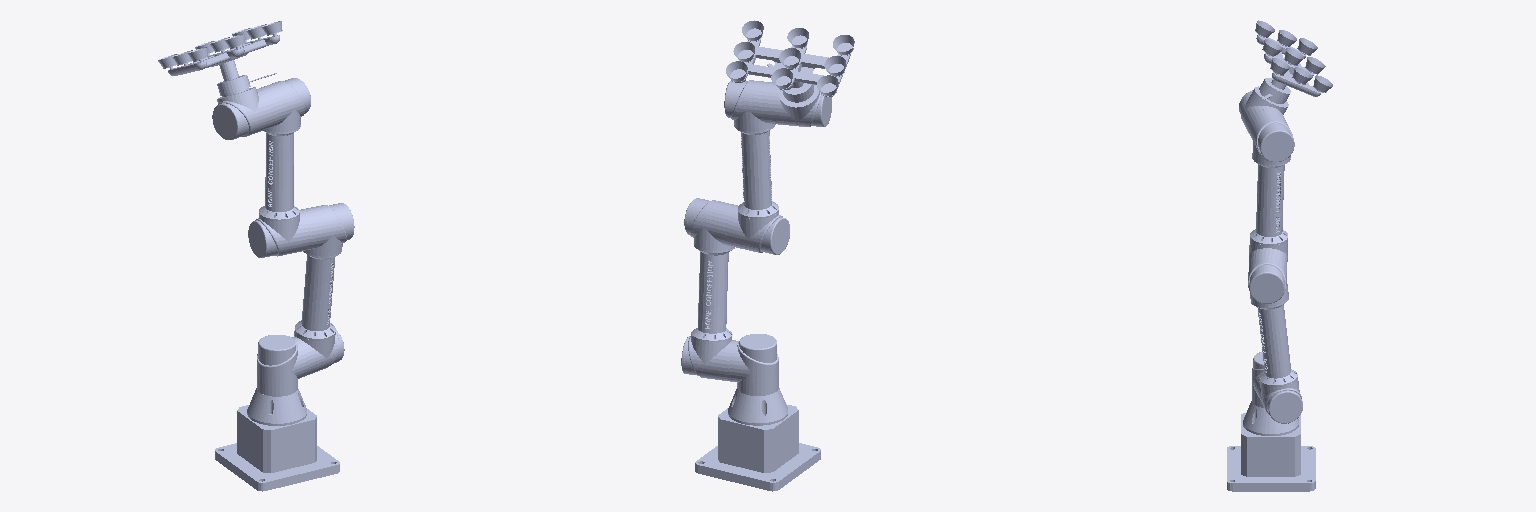
The robot description file, URDF, robot "bras_robot_kone":
<?xml version="1.0" encoding="utf-8"?>
<!-- This URDF was automatically created by SolidWorks to URDF Exporter! Originally created by [author] ([email redacted]) 
     Commit Version: 1.6.0-4-g7f85cfe  Build Version: 1.6.7995.38578
     For more information, please see http://wiki.ros.org/sw_urdf_exporter -->
<robot
  name="bras_robot_kone">
  <link
    name="base_link">
    <inertial>
      <origin
        xyz="-0.0439390916743305 -0.00824743509828847 0.0750001368355614"
        rpy="0 0 0" />
      <mass
        value="1.15616260183108" />
      <inertia
        ixx="0.00201252660466385"
        ixy="-5.84389314167828E-11"
        ixz="1.15648471369529E-09"
        iyy="0.00254071599730866"
        iyz="-9.2583283272325E-10"
        izz="0.00201252366056206" />
    </inertial>
    <visual>
      <origin
        xyz="0 0 0"
        rpy="0 0 0" />
      <geometry>
        <mesh
          filename="package://bras_robot_kone/meshes/base_link.STL" />
      </geometry>
      <material
        name="">
        <color
          rgba="0.792156862745098 0.819607843137255 0.933333333333333 1" />
      </material>
    </visual>
    <collision>
      <origin
        xyz="0 0 0"
        rpy="0 0 0" />
      <geometry>
        <mesh
          filename="package://bras_robot_kone/meshes/base_link.STL" />
      </geometry>
    </collision>
  </link>
  <link
    name="link_1">
    <inertial>
      <origin
        xyz="-3.1782E-08 0.039149 0.0038439"
        rpy="0 0 0" />
      <mass
        value="0.28935" />
      <inertia
        ixx="0.00023422"
        ixy="-5.2518E-11"
        ixz="2.1705E-10"
        iyy="0.00017347"
        iyz="-3.0518E-06"
        izz="0.00021948" />
    </inertial>
    <visual>
      <origin
        xyz="0 0 0"
        rpy="0 0 0" />
      <geometry>
        <mesh
          filename="package://bras_robot_kone/meshes/link_1.STL" />
      </geometry>
      <material
        name="">
        <color
          rgba="0.79216 0.81961 0.93333 1" />
      </material>
    </visual>
    <collision>
      <origin
        xyz="0 0 0"
        rpy="0 0 0" />
      <geometry>
        <mesh
          filename="package://bras_robot_kone/meshes/link_1.STL" />
      </geometry>
    </collision>
  </link>
  <joint
    name="joint0"
    type="revolute">
    <origin
      xyz="-0.043939 -0.075 0.075658"
      rpy="1.5708 0 1.7893" />
    <parent
      link="base_link" />
    <child
      link="link_1" />
    <axis
      xyz="0 1 0" />
    <limit
      lower="-1.57"
      upper="1.57"
      effort="10"
      velocity="100" />
  </joint>
  <link
    name="link_2">
    <inertial>
      <origin
        xyz="2.35405509894093E-05 0.0356351701817949 0.0538201047690854"
        rpy="0 0 0" />
      <mass
        value="0.531525546414824" />
      <inertia
        ixx="0.000823332325834598"
        ixy="4.77518531309744E-07"
        ixz="4.3876184733731E-08"
        iyy="0.000759809477216489"
        iyz="-3.3136942033293E-06"
        izz="0.000292449829863382" />
    </inertial>
    <visual>
      <origin
        xyz="0 0 0"
        rpy="0 0 0" />
      <geometry>
        <mesh
          filename="package://bras_robot_kone/meshes/link_2.STL" />
      </geometry>
      <material
        name="">
        <color
          rgba="0.792156862745098 0.819607843137255 0.933333333333333 1" />
      </material>
    </visual>
    <collision>
      <origin
        xyz="0 0 0"
        rpy="0 0 0" />
      <geometry>
        <mesh
          filename="package://bras_robot_kone/meshes/link_2.STL" />
      </geometry>
    </collision>
  </link>
  <joint
    name="joint1"
    type="revolute">
    <origin
      xyz="0 0.04 0.041261"
      rpy="1.5708 0 -3.0383" />
    <parent
      link="link_1" />
    <child
      link="link_2" />
    <axis
      xyz="0 1 0" />
    <limit
      lower="-1.57"
      upper="1.57"
      effort="10"
      velocity="100" />
  </joint>
  <link
    name="link_3">
    <inertial>
      <origin
        xyz="-1.48692601287248E-08 -0.000850596874469905 -0.0421039527998203"
        rpy="0 0 0" />
      <mass
        value="0.289351676799976" />
      <inertia
        ixx="0.000234216248202112"
        ixy="-6.29449176223973E-11"
        ixz="1.73502015400997E-10"
        iyy="0.00017347323078365"
        iyz="-3.05178708302161E-06"
        izz="0.000219481401320033" />
    </inertial>
    <visual>
      <origin
        xyz="0 0 0"
        rpy="0 0 0" />
      <geometry>
        <mesh
          filename="package://bras_robot_kone/meshes/link_3.STL" />
      </geometry>
      <material
        name="">
        <color
          rgba="0.792156862745098 0.819607843137255 0.933333333333333 1" />
      </material>
    </visual>
    <collision>
      <origin
        xyz="0 0 0"
        rpy="0 0 0" />
      <geometry>
        <mesh
          filename="package://bras_robot_kone/meshes/link_3.STL" />
      </geometry>
    </collision>
  </link>
  <joint
    name="joint2"
    type="revolute">
    <origin
      xyz="0 0.036239 0.18105"
      rpy="3.1416 0 2.9025" />
    <parent
      link="link_2" />
    <child
      link="link_3" />
    <axis
      xyz="0 0 1" />
    <limit
      lower="-1.57"
      upper="1.57"
      effort="10"
      velocity="100" />
  </joint>
  <link
    name="link_4">
    <inertial>
      <origin
        xyz="-0.000123969521874143 0.0444911830931757 0.053820109475482"
        rpy="0 0 0" />
      <mass
        value="0.531525516642012" />
      <inertia
        ixx="0.000821207170459937"
        ixy="-1.27260927942252E-06"
        ixz="-2.29868804648989E-07"
        iyy="0.000761934526799435"
        iyz="-3.18449437904773E-06"
        izz="0.000292449840197185" />
    </inertial>
    <visual>
      <origin
        xyz="0 0 0"
        rpy="0 0 0" />
      <geometry>
        <mesh
          filename="package://bras_robot_kone/meshes/link_4.STL" />
      </geometry>
      <material
        name="">
        <color
          rgba="0.792156862745098 0.819607843137255 0.933333333333333 1" />
      </material>
    </visual>
    <collision>
      <origin
        xyz="0 0 0"
        rpy="0 0 0" />
      <geometry>
        <mesh
          filename="package://bras_robot_kone/meshes/link_4.STL" />
      </geometry>
    </collision>
  </link>
  <joint
    name="joint3"
    type="revolute">
    <origin
      xyz="0 -0.034974 -0.045948"
      rpy="-3.1416 -0.12953 0" />
    <parent
      link="link_3" />
    <child
      link="link_4" />
    <axis
      xyz="0 1 0" />
    <limit
      lower="-1.57"
      upper="1.57"
      effort="10"
      velocity="100" />
  </joint>
  <link
    name="link_5">
    <inertial>
      <origin
        xyz="1.08240438001506E-08 -0.0008505990230291 -0.0355404466306268"
        rpy="0 0 0" />
      <mass
        value="0.28935163226641" />
      <inertia
        ixx="0.0002342161761347"
        ixy="-8.83565338407298E-11"
        ixz="8.38072971269063E-11"
        iyy="0.000173473227369963"
        iyz="-3.05177250771006E-06"
        izz="0.000219481412455453" />
    </inertial>
    <visual>
      <origin
        xyz="0 0 0"
        rpy="0 0 0" />
      <geometry>
        <mesh
          filename="package://bras_robot_kone/meshes/link_5.STL" />
      </geometry>
      <material
        name="">
        <color
          rgba="0.792156862745098 0.819607843137255 0.933333333333333 1" />
      </material>
    </visual>
    <collision>
      <origin
        xyz="0 0 0"
        rpy="0 0 0" />
      <geometry>
        <mesh
          filename="package://bras_robot_kone/meshes/link_5.STL" />
      </geometry>
    </collision>
  </link>
  <joint
    name="joint4"
    type="revolute">
    <origin
      xyz="0 0.045026 0.18762"
      rpy="3.1416 0 0.2514" />
    <parent
      link="link_4" />
    <child
      link="link_5" />
    <axis
      xyz="0 0 1" />
    <limit
      lower="-1.57"
      upper="1.57"
      effort="10"
      velocity="100" />
  </joint>
  <link
    name="link_6">
    <inertial>
      <origin
        xyz="-1.53701241734083E-08 0.0329285054868462 0.0038439145067623"
        rpy="0 0 0" />
      <mass
        value="0.289351767797651" />
      <inertia
        ixx="0.00023421648369462"
        ixy="-7.87387063780039E-11"
        ixz="1.29280080666042E-10"
        iyy="0.000173473234158932"
        iyz="-3.05180863708667E-06"
        izz="0.000219481354211361" />
    </inertial>
    <visual>
      <origin
        xyz="0 0 0"
        rpy="0 0 0" />
      <geometry>
        <mesh
          filename="package://bras_robot_kone/meshes/link_6.STL" />
      </geometry>
      <material
        name="">
        <color
          rgba="0.792156862745098 0.819607843137255 0.933333333333333 1" />
      </material>
    </visual>
    <collision>
      <origin
        xyz="0 0 0"
        rpy="0 0 0" />
      <geometry>
        <mesh
          filename="package://bras_robot_kone/meshes/link_6.STL" />
      </geometry>
    </collision>
  </link>
  <joint
    name="joint5"
    type="revolute">
    <origin
      xyz="0 -0.046221 -0.039384"
      rpy="-3.1416 -0.45971 0" />
    <parent
      link="link_5" />
    <child
      link="link_6" />
    <axis
      xyz="0 1 0" />
    <limit
      lower="-1.57"
      upper="1.57"
      effort="10"
      velocity="100" />
  </joint>
  <link
    name="link_7">
    <inertial>
      <origin
        xyz="0.000436939097562219 0.00472174851374407 -1.91344858714304E-05"
        rpy="0 0 0" />
      <mass
        value="0.0578450140794518" />
      <inertia
        ixx="1.70796849535902E-05"
        ixy="1.29079224119903E-07"
        ixz="5.19694801284576E-08"
        iyy="1.58193115885008E-05"
        iyz="-7.86078318786058E-09"
        izz="1.82717567094603E-05" />
    </inertial>
    <visual>
      <origin
        xyz="0 0 0"
        rpy="0 0 0" />
      <geometry>
        <mesh
          filename="package://bras_robot_kone/meshes/link_7.STL" />
      </geometry>
      <material
        name="">
        <color
          rgba="0.792156862745098 0.819607843137255 0.933333333333333 1" />
      </material>
    </visual>
    <collision>
      <origin
        xyz="0 0 0"
        rpy="0 0 0" />
      <geometry>
        <mesh
          filename="package://bras_robot_kone/meshes/link_7.STL" />
      </geometry>
    </collision>
  </link>
  <joint
    name="joint6"
    type="revolute">
    <origin
      xyz="0 0.033779 0.050476"
      rpy="1.5708 0 -2.1909" />
    <parent
      link="link_6" />
    <child
      link="link_7" />
    <axis
      xyz="0 1 0" />
    <limit
      lower="-1.57"
      upper="1.57"
      effort="10"
      velocity="100" />
  </joint>
  <link
    name="end_effector">
    <inertial>
      <origin
        xyz="-1.7990192520051E-05 0.0414428435042036 0.0490901668874435"
        rpy="0 0 0" />
      <mass
        value="0.116085415446928" />
      <inertia
        ixx="5.06173187250878E-05"
        ixy="-2.12626883955172E-07"
        ixz="3.16026596193211E-09"
        iyy="0.000270586101442848"
        iyz="-4.14141570536042E-09"
        izz="0.000317922147797635" />
    </inertial>
    <visual>
      <origin
        xyz="0 0 0"
        rpy="0 0 0" />
      <geometry>
        <mesh
          filename="package://bras_robot_kone/meshes/end_effector.STL" />
      </geometry>
      <material
        name="">
        <color
          rgba="0.792156862745098 0.819607843137255 0.933333333333333 1" />
      </material>
    </visual>
    <collision>
      <origin
        xyz="0 0 0"
        rpy="0 0 0" />
      <geometry>
        <mesh
          filename="package://bras_robot_kone/meshes/end_effector.STL" />
      </geometry>
    </collision>
  </link>
  <joint
    name="end_effector_joint"
    type="fixed">
    <origin
      xyz="0.021919 0 0.035517"
      rpy="-1.5708 0.55293 0" />
    <parent
      link="link_7" />
    <child
      link="end_effector" />
    <axis
      xyz="0 0 1" />
    <limit
      lower="0"
      upper="0"
      effort="0"
      velocity="0" />
  </joint>
</robot>

--- What the picture shows (computed from the rendered views, not written in the file) ---
Views: 3 orthographic renders of the robot side by side, from view 1: azimuth 30°, elevation 25°; view 2: azimuth 150°, elevation 25°; view 3: azimuth 270°, elevation 25°.
Model bras_robot_kone with 9 links and 8 joints (7 revolute, 1 fixed), rooted at base_link, posed all joints at 0.
Links seen in each view (by area): view 1: base_link, link_4, link_2, link_1, end_effector, link_6, link_3, link_5, link_7; view 2: base_link, end_effector, link_4, link_2, link_1, link_5, link_3, link_6; view 3: base_link, link_2, end_effector, link_4, link_5, link_3, link_6, link_7.
Boxes of the visible links, x1,y1,x2,y2 form: base_link: (215,388,339,491); link_4: (248,125,310,257); link_2: (292,251,344,376); link_1: (257,335,308,396); end_effector: (158,21,282,75); link_6: (212,87,275,139); link_3: (300,203,354,256); link_5: (259,78,310,131); link_7: (217,60,276,96); base_link: (695,388,820,491); end_effector: (726,20,854,96); link_4: (727,124,789,254); link_2: (681,245,735,381); link_1: (729,334,778,395); link_5: (724,80,775,131); link_3: (684,198,737,250); link_6: (772,85,831,126); base_link: (1227,401,1315,491); link_2: (1251,298,1302,423); end_effector: (1255,20,1332,96); link_4: (1249,157,1290,262); link_5: (1248,109,1294,164); link_3: (1248,250,1288,306); link_6: (1239,86,1288,132); link_7: (1259,78,1290,103).
Bounding box of the posed robot: 0.3014 × 0.1801 × 0.7691 m (x, y, z).
Meshes: 9 distinct files referenced, 9 mesh visuals loaded (9 binary STL).